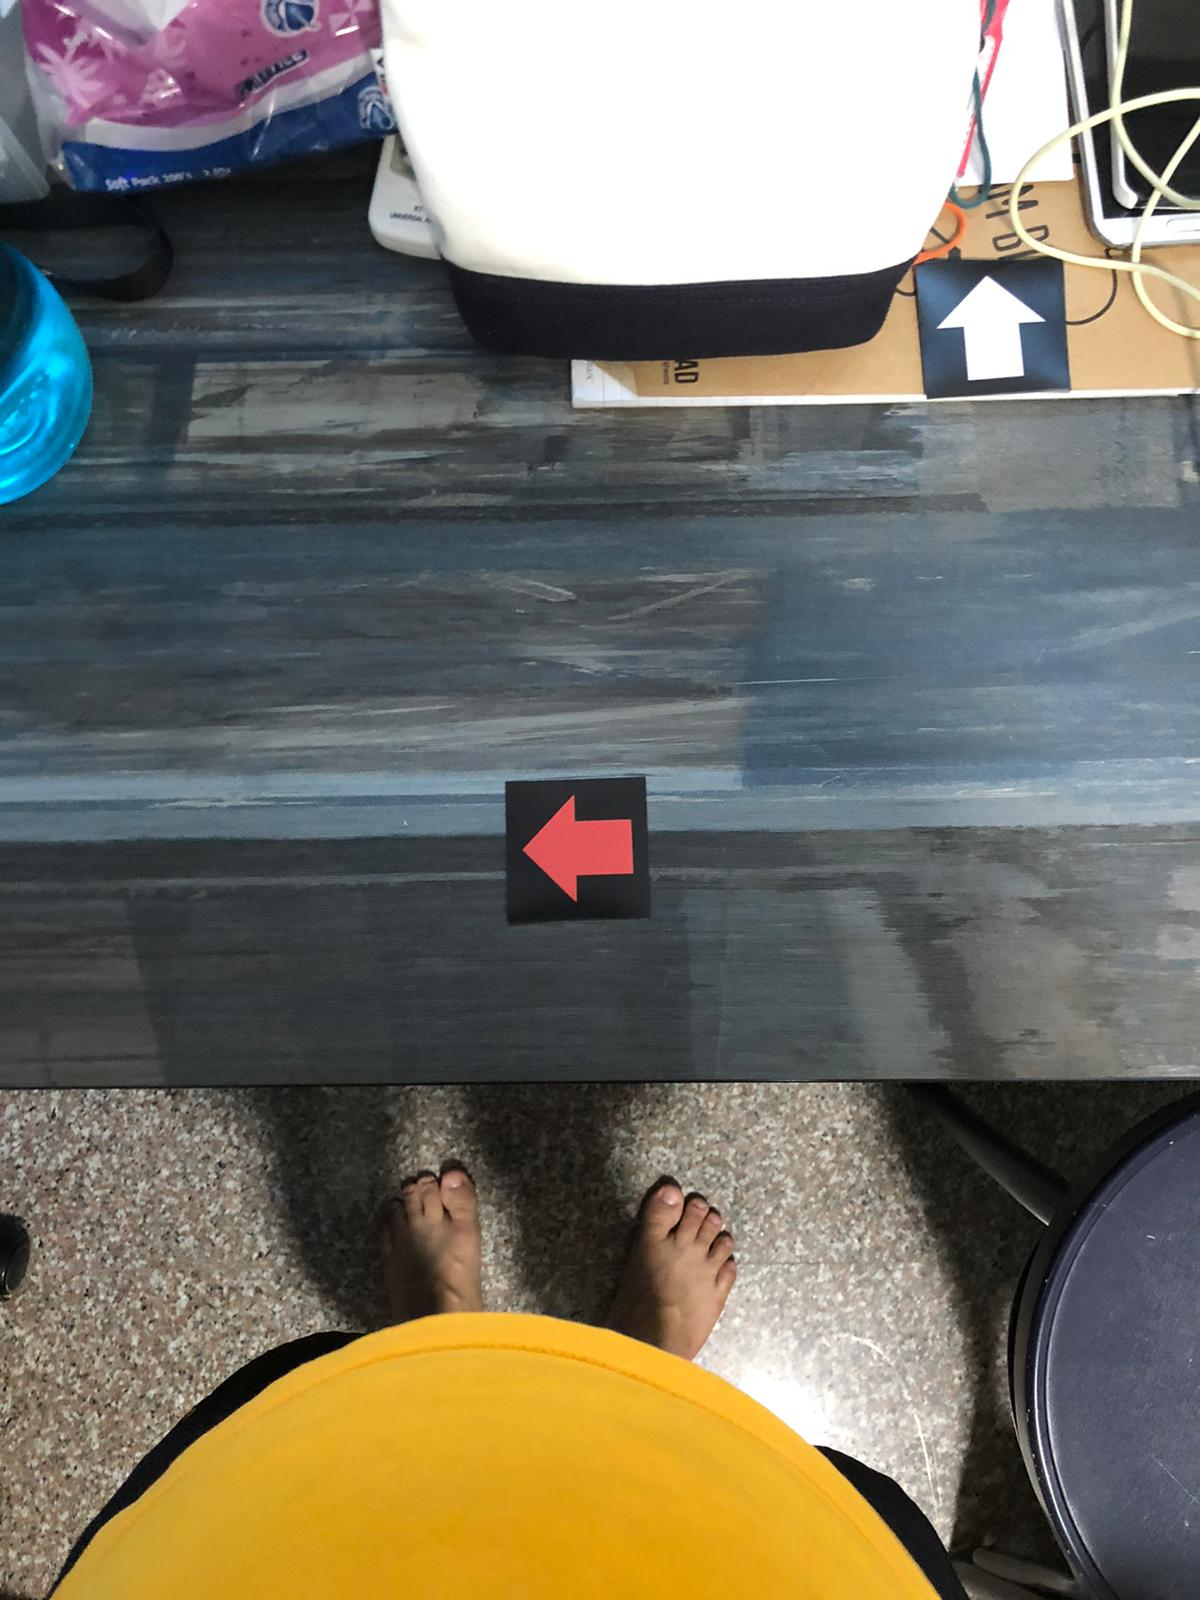Left Arrow: (494, 781, 655, 918)
Top Arrow: (918, 265, 1066, 398)
